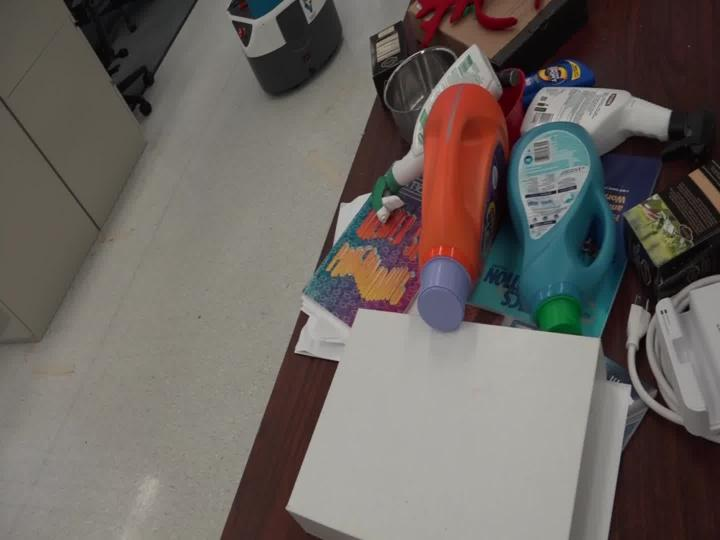downy: (497, 108, 639, 334)
